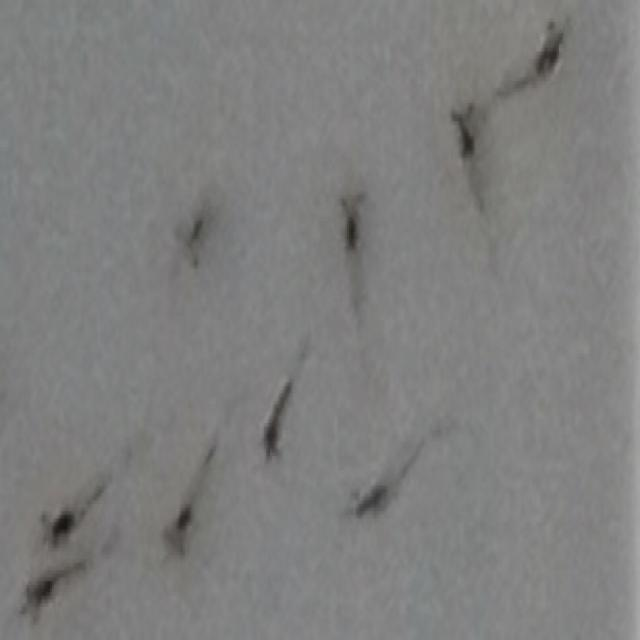shrimp-seed: (261, 380, 296, 462), (335, 186, 369, 262), (530, 20, 570, 84), (447, 101, 482, 166), (170, 210, 206, 272), (346, 478, 394, 522), (36, 503, 78, 553), (16, 571, 52, 628), (161, 505, 196, 561)
